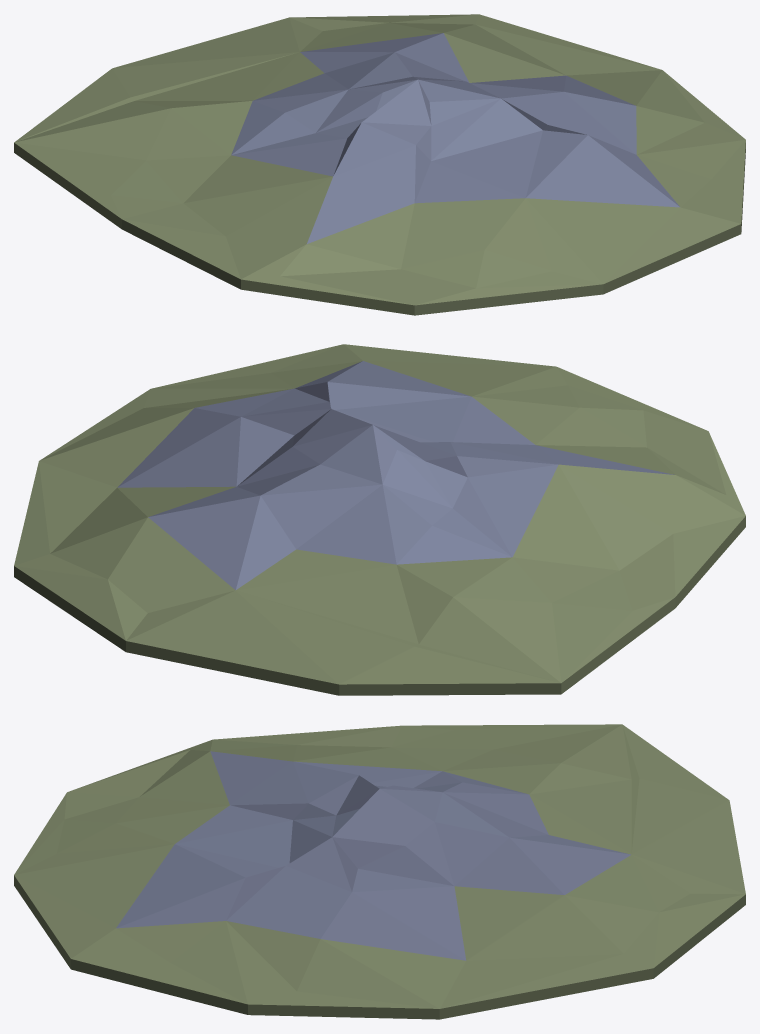
Rendered from massif_east_foothill.glb.
3 renders of one model, top to bottom at view 1: azimuth 30°, elevation 25°; view 2: azimuth 150°, elevation 25°; view 3: azimuth 270°, elevation 25°, orthographic. The views are drawn at different scales.
Visible parts, largest first — view 1: massif_east_foothill; view 2: massif_east_foothill; view 3: massif_east_foothill.
Boxes of the visible parts, x1=… form: massif_east_foothill: x1=14, y1=14, x2=745, y2=315; massif_east_foothill: x1=14, y1=344, x2=745, y2=695; massif_east_foothill: x1=14, y1=724, x2=745, y2=1019.
Bounding box in the file's own units: 633 × 95.43 × 688.
